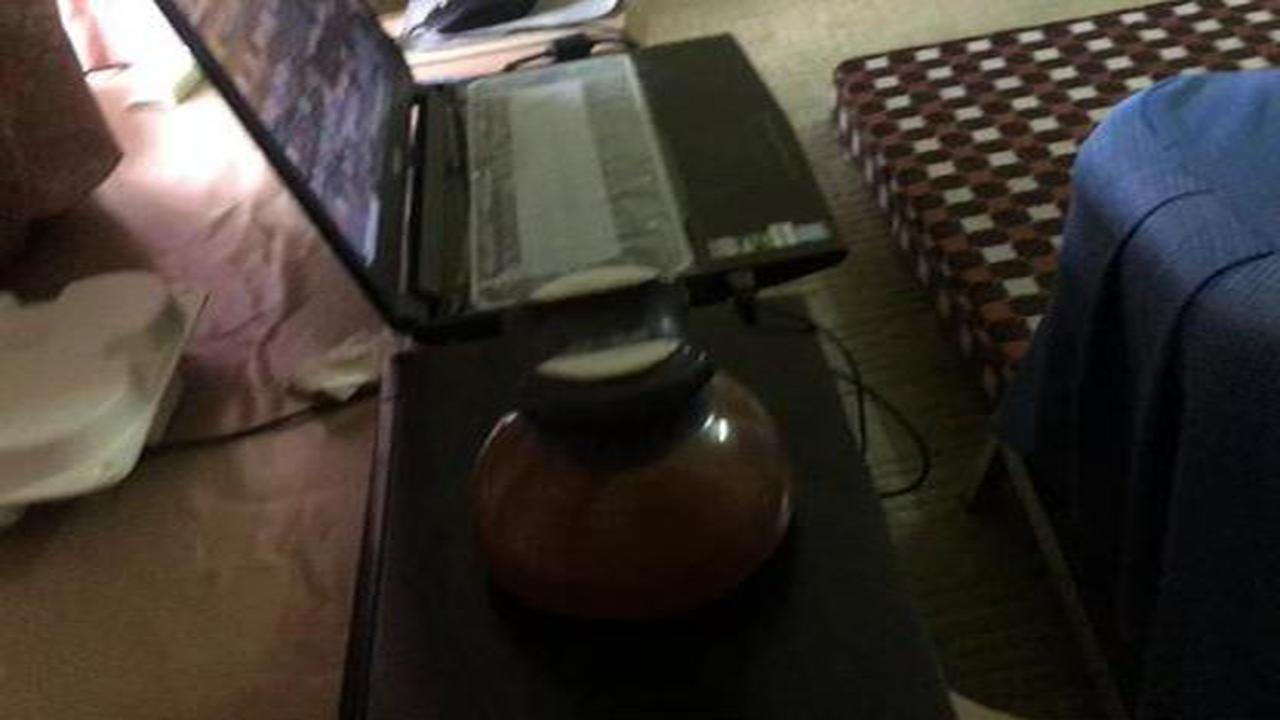insulator_pin: (447, 257, 819, 656)
